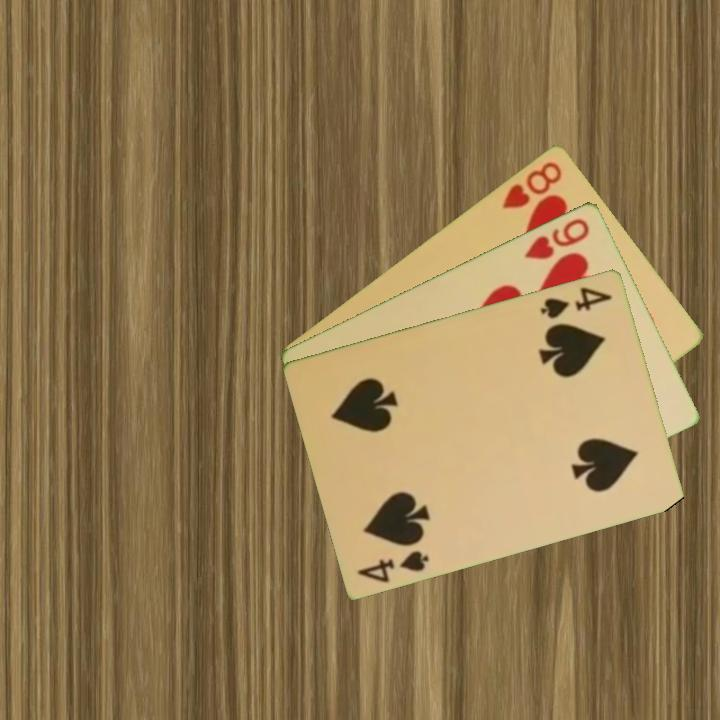4s: (354, 546, 432, 585), (537, 283, 615, 321)
8h: (498, 157, 565, 212)
9h: (521, 214, 593, 262)
